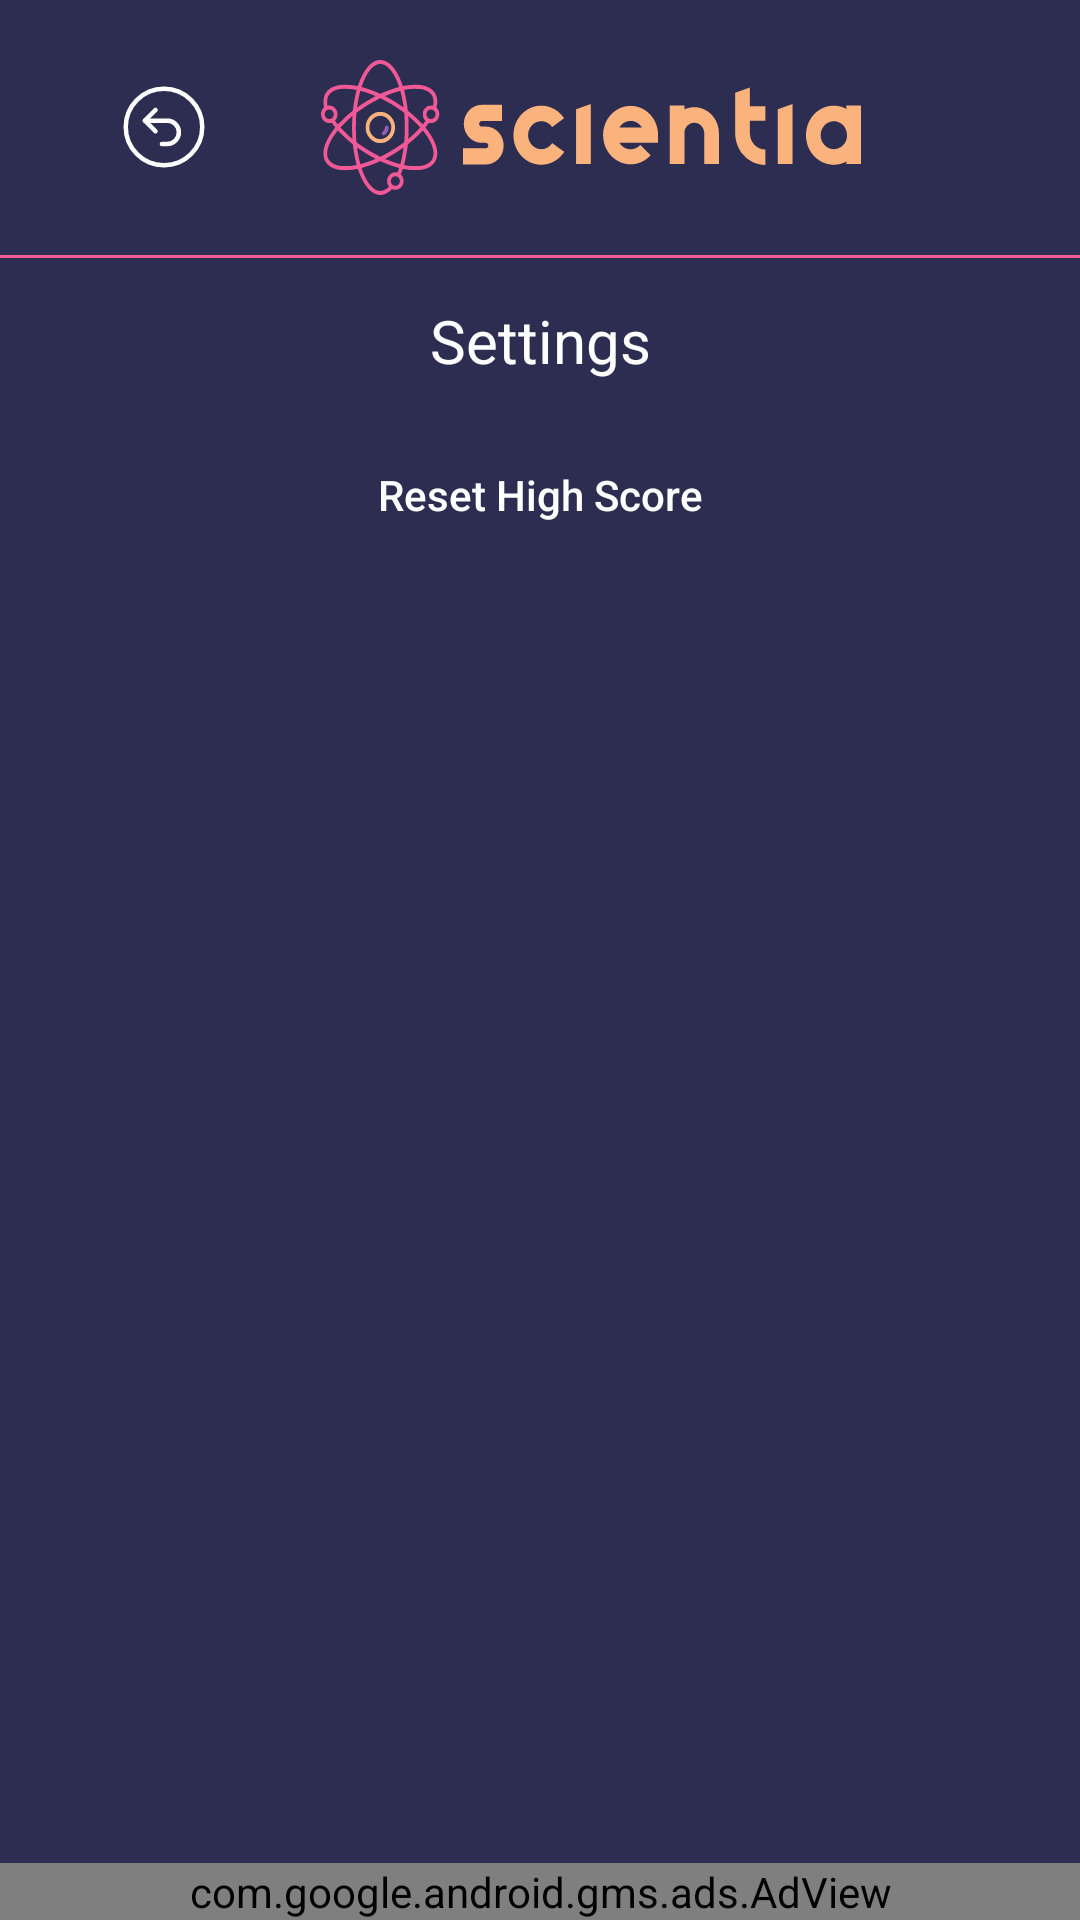

Screen size 1080 × 1920. Icon name, then its box in pixels as (x1, y1, x2, y2):
back: (123, 86, 205, 168)
